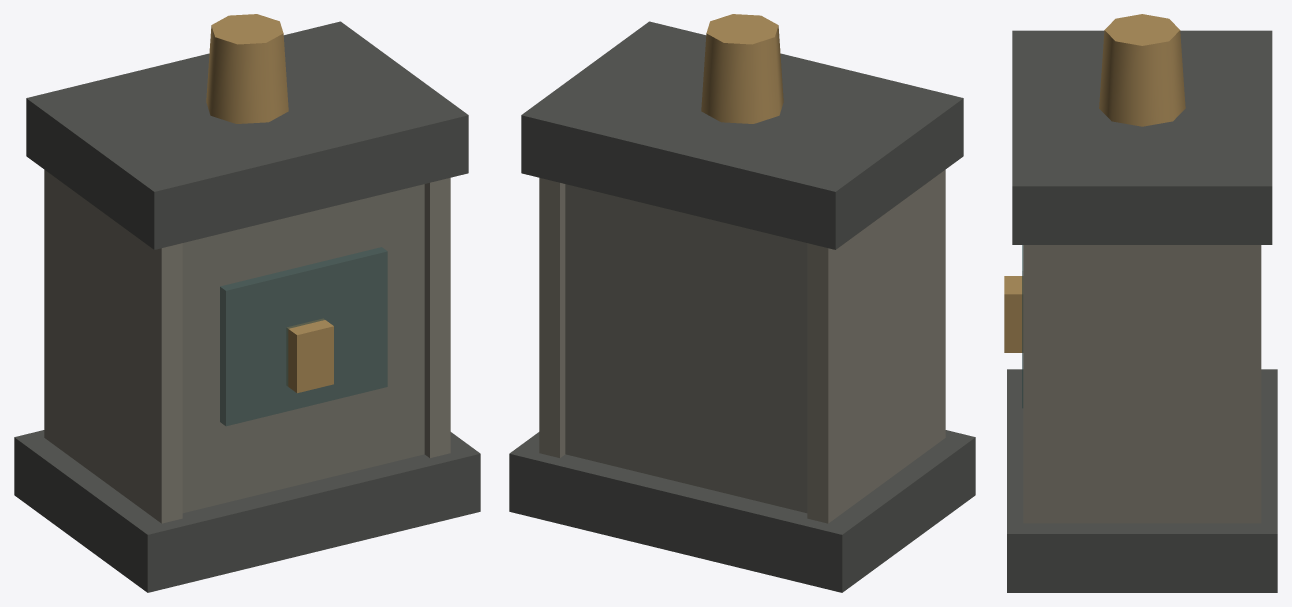
The model's file is sk_reliquary.glb.
The picture shows the model from 3 angles, left to right: view 1: azimuth 30°, elevation 25°; view 2: azimuth 150°, elevation 25°; view 3: azimuth 270°, elevation 25°; orthographic projection.
Visible parts, largest first — view 1: stone, metal, object 3; view 2: stone, metal; view 3: metal, stone.
Boxes of the visible parts, x1,y1,x2,y2 form: stone: [14, 21, 480, 592]; metal: [44, 14, 450, 523]; object 3: [220, 247, 387, 426]; stone: [509, 21, 975, 592]; metal: [539, 14, 945, 523]; metal: [1004, 14, 1261, 523]; stone: [1007, 30, 1277, 592].
Bounding box in the file's own units: 0.72 × 0.98 × 0.505.
